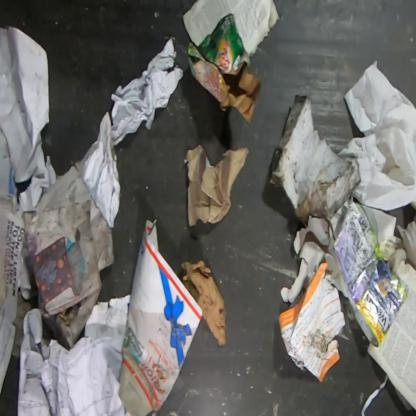cardboard: (118, 216, 204, 415), (186, 12, 262, 126), (180, 260, 228, 346), (0, 125, 18, 197)
soft_plastic: (332, 202, 407, 349)
